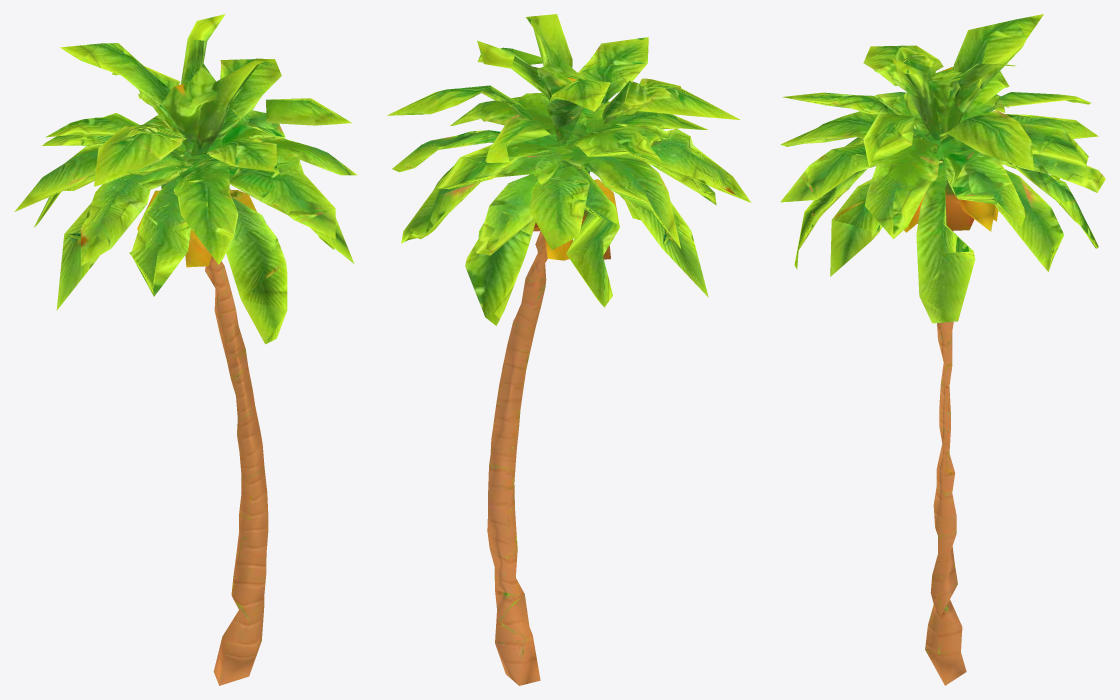
Rendered from palm_tree.glb.
The picture shows the model from 3 angles, left to right: view 1: azimuth 30°, elevation 25°; view 2: azimuth 150°, elevation 25°; view 3: azimuth 270°, elevation 25°; orthographic projection. The views are drawn at different scales.
Parts seen in each view (by area): view 1: 0; view 2: 0; view 3: 0.
Boxes of the visible parts, <box> form: 0: <box>14,14,357,685</box>; 0: <box>387,14,751,685</box>; 0: <box>780,14,1105,685</box>.
Size of the model in its own units: 0.8766 by 1.87 by 0.8885.
1 material, 1 textured.
